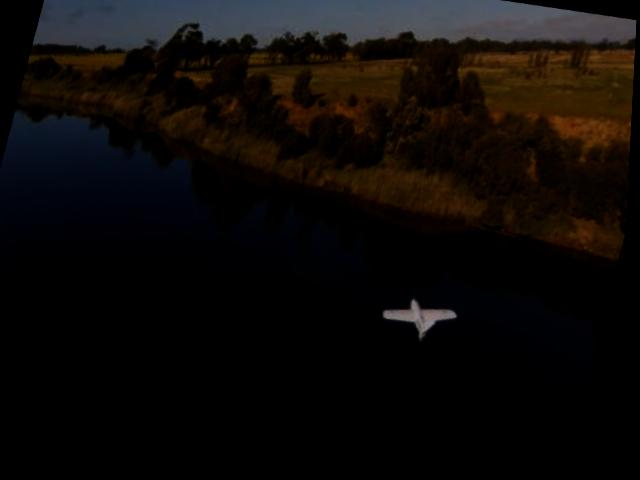uav: (379, 293, 465, 359)
